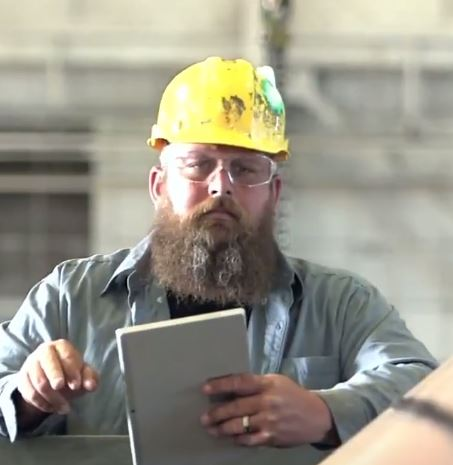Safety Helmet: (133, 45, 312, 315)
